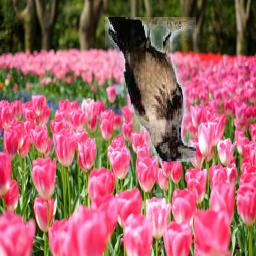Crow: (106, 18, 197, 163)
